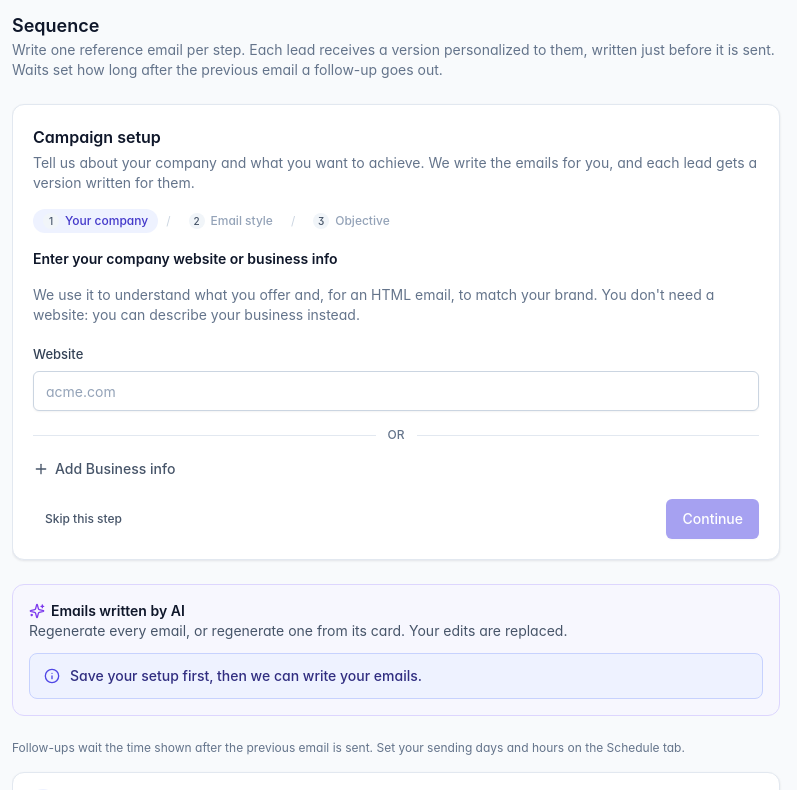
Sequence tab: hyper-personalized campaigns › company step (website or business info) › explains why localhost can't be used, and sends nothing
The image size is (797, 790).
Type "localhost" into the field labelled "Website" at [396, 391], box [33,371,759,411]
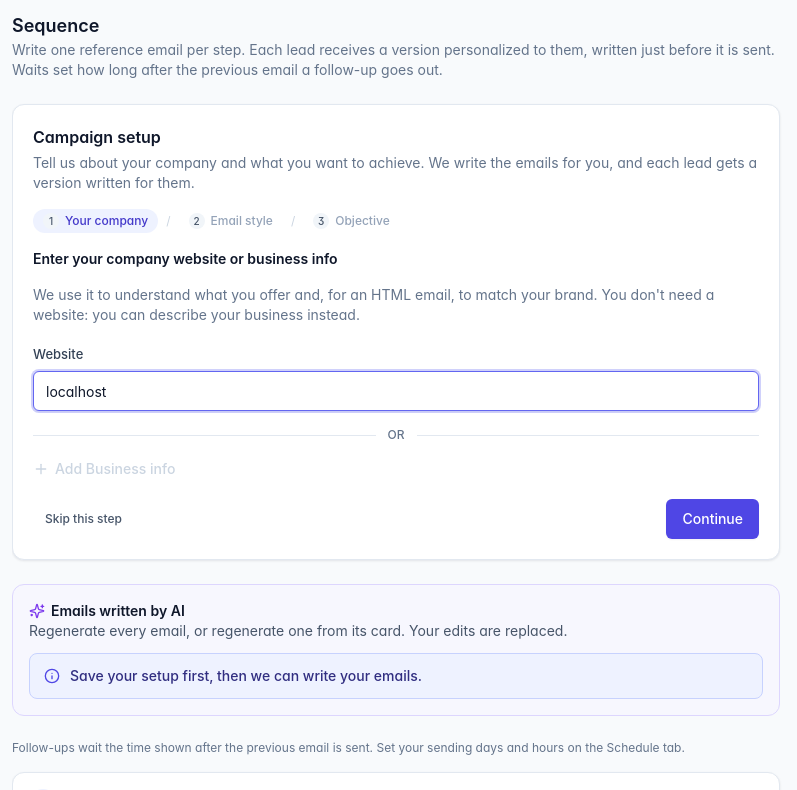
Enter submits the form (Continue is enabled once something is typed).
Press Enter
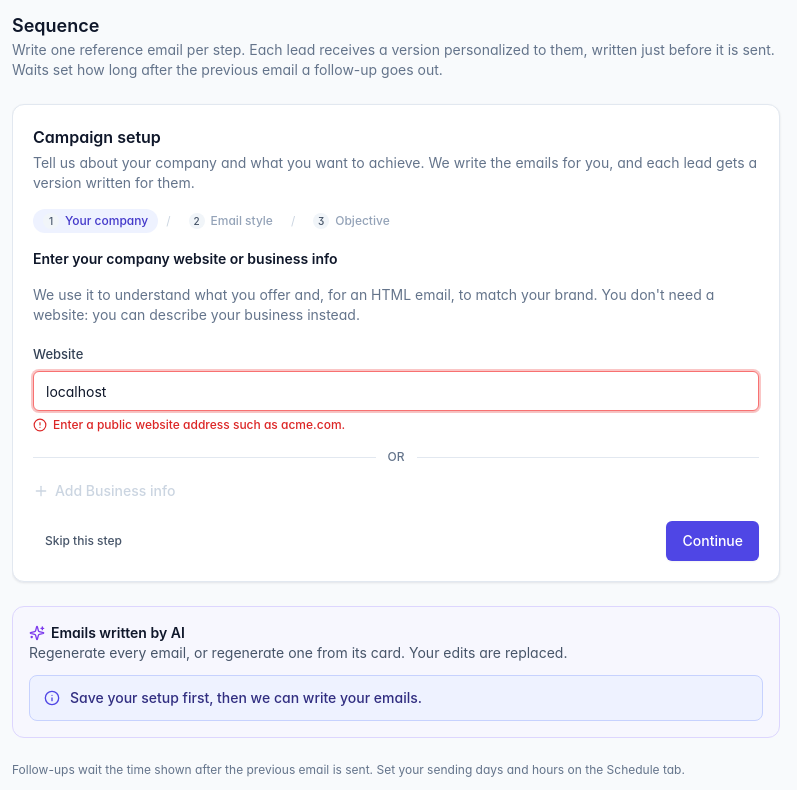
Result: the text "Enter a public website address such as acme.com." is shown at [33,417,345,432]
